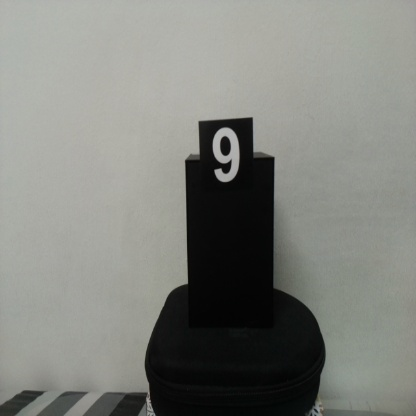id_9: (199, 122, 254, 205)
